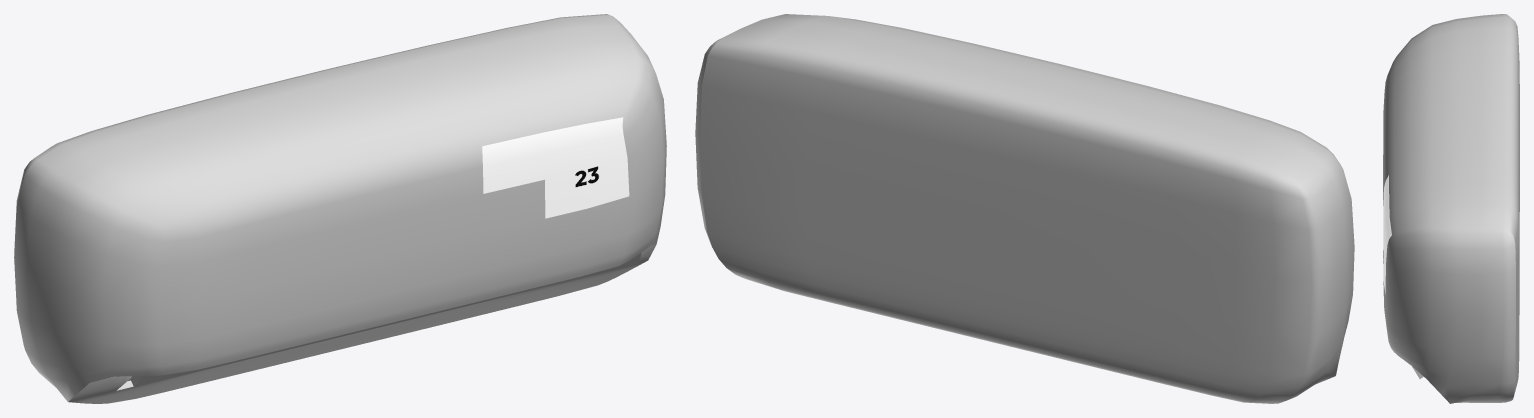
The model's file is split.glb.
3 views of the same model, side by side, from view 1: azimuth 30°, elevation 25°; view 2: azimuth 150°, elevation 25°; view 3: azimuth 270°, elevation 25° (orthographic). The views are drawn at different scales.
Visible parts, largest first — view 1: Spli; view 2: Spli; view 3: Spli.
Part boxes in pixels (x1,y1,x2,y2): Spli: (14, 14, 666, 403); Spli: (695, 14, 1354, 403); Spli: (1383, 14, 1519, 403).
Size of the model in its own units: 1.66 by 0.6443 by 0.4053.
Materials: 2 (1 with a texture image).
